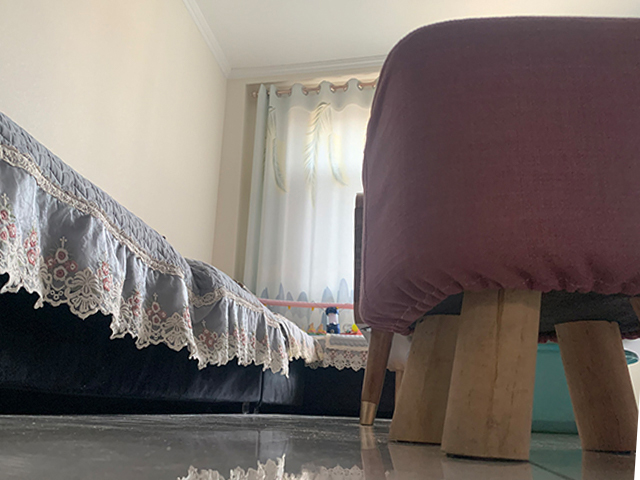curtain: (252, 80, 352, 325)
sofa: (1, 117, 189, 409), (194, 251, 321, 411)
stool: (358, 9, 640, 458)
